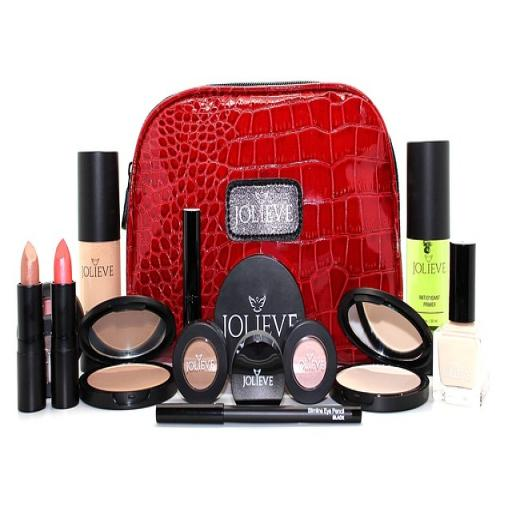lipstick: (17, 243, 46, 412), (51, 240, 79, 408), (184, 209, 201, 327)
